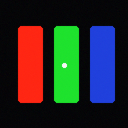0 point: (62, 63, 66, 67)
